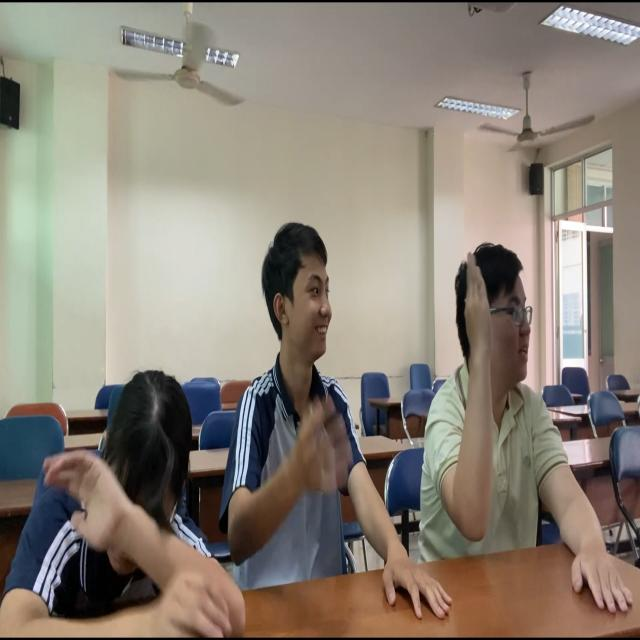raise_hand: (429, 240, 618, 591)
sleep: (7, 364, 239, 640)
